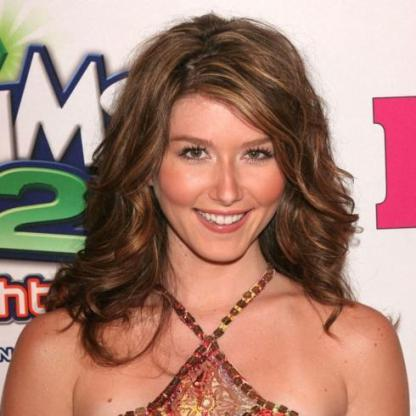long-hair: (50, 266, 350, 318)
